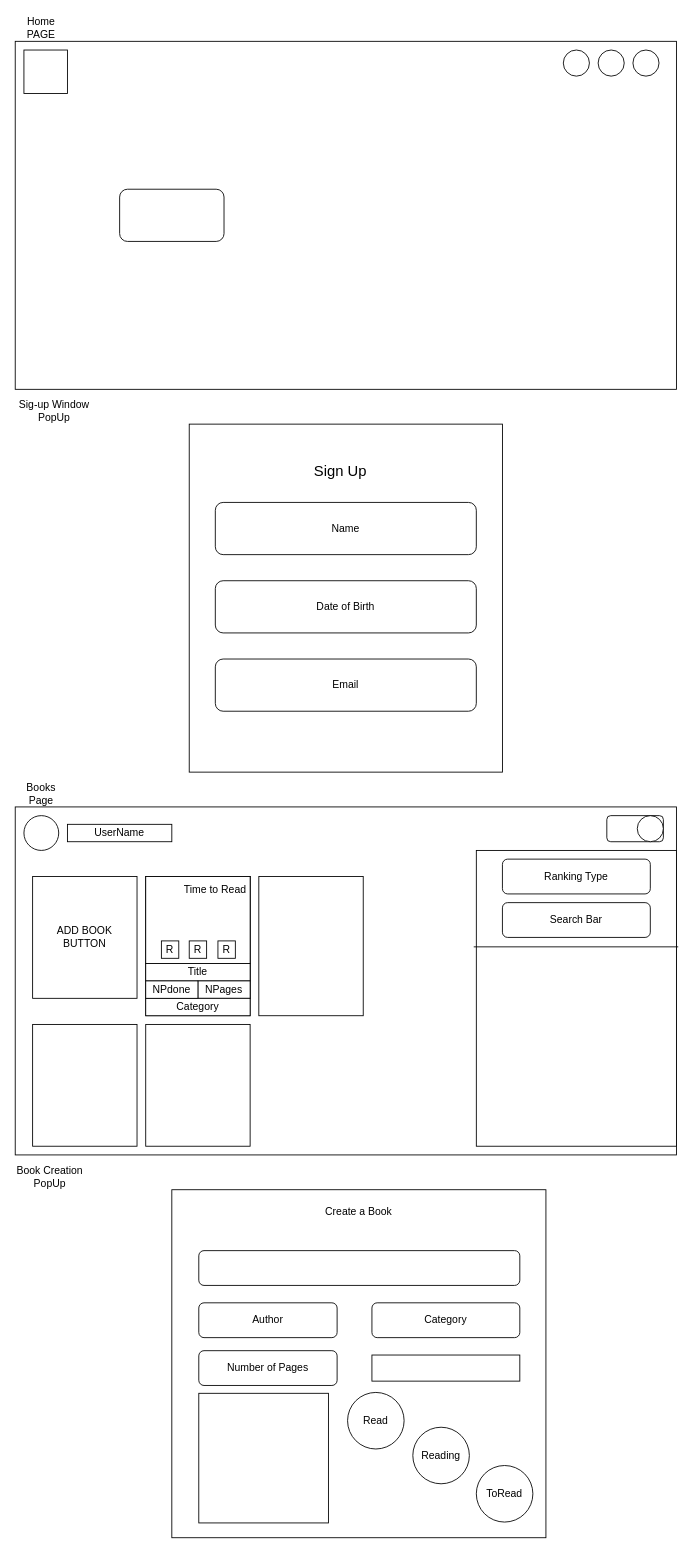
The diagram is 695 pixels wide and 1553 high, and some of its shapes have lost their labels. The box of each missing label's shape, as (x1, y1, x2, y2) in pixels:
Book: (145, 876, 250, 964)
Button: (119, 188, 224, 241)
Image Upload: (371, 1354, 520, 1381)
Logo: (23, 49, 67, 94)
Name Of The Book: (198, 1250, 520, 1285)
NightMode: (606, 815, 663, 842)
Prototype of the Book Figure: (198, 1392, 328, 1523)
The Searching Results: (475, 850, 676, 1146)
UserImg: (23, 815, 59, 850)
